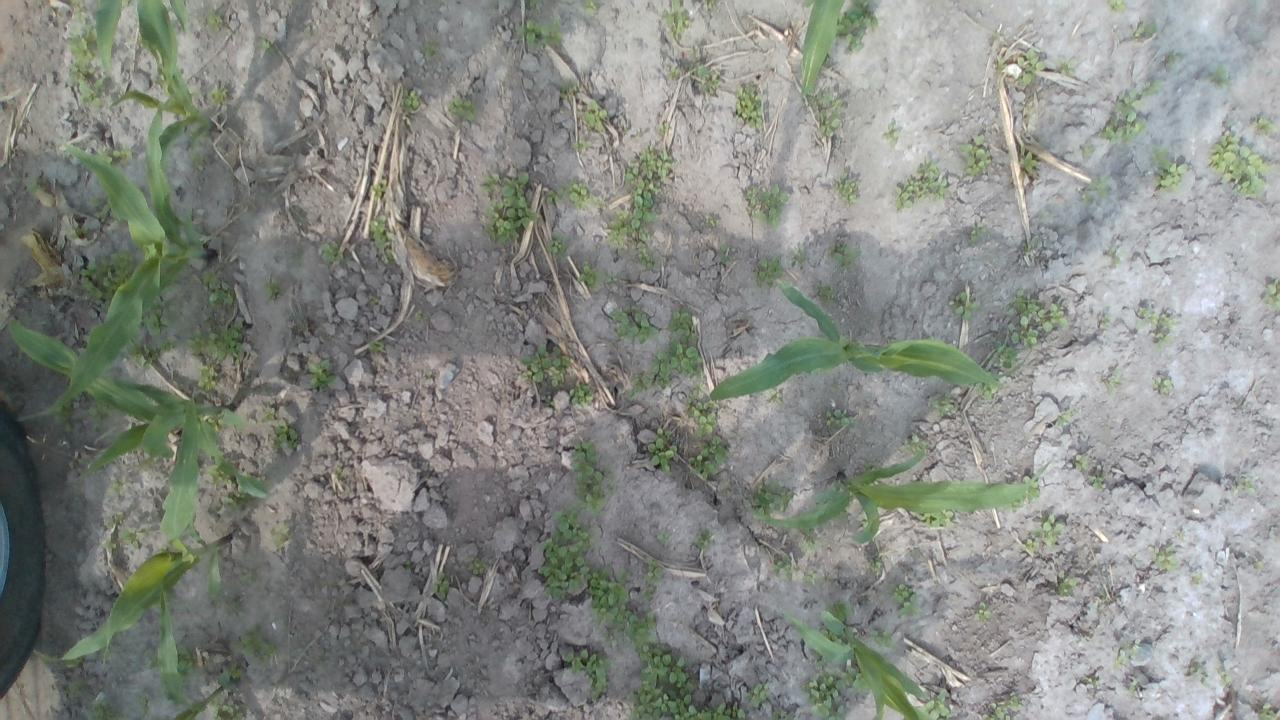Maize: (15, 93, 214, 437), (35, 392, 234, 668), (3, 316, 270, 502), (711, 282, 1002, 400), (762, 448, 1050, 544), (781, 608, 932, 720), (93, 0, 191, 97), (156, 585, 226, 720), (799, 0, 847, 98)
Weeds: (586, 561, 656, 645), (626, 641, 697, 720), (536, 505, 590, 602), (1208, 132, 1272, 202), (623, 143, 676, 226), (479, 171, 538, 244), (1002, 288, 1068, 346), (568, 438, 616, 517), (76, 249, 135, 310), (562, 644, 614, 702), (649, 336, 704, 389), (893, 158, 950, 207), (516, 342, 572, 390), (1098, 89, 1146, 145), (834, 0, 880, 55), (185, 320, 242, 362), (1148, 140, 1190, 194), (743, 182, 789, 231), (66, 60, 111, 107), (748, 480, 793, 525), (804, 673, 847, 720), (232, 623, 276, 668), (1134, 304, 1177, 350), (610, 304, 659, 344), (681, 52, 724, 96), (809, 86, 846, 136), (690, 435, 730, 481), (516, 14, 564, 49), (958, 134, 994, 180), (605, 209, 652, 244), (128, 337, 176, 370), (684, 396, 720, 439), (198, 268, 236, 307), (646, 428, 678, 474), (731, 84, 764, 128), (1016, 50, 1052, 90), (217, 476, 254, 514), (142, 296, 178, 334), (64, 26, 100, 62), (662, 0, 692, 41), (830, 166, 860, 207), (751, 254, 786, 289), (304, 357, 338, 393), (1029, 513, 1066, 545), (1012, 473, 1044, 510), (664, 306, 699, 339), (918, 687, 952, 720), (889, 582, 922, 616), (980, 693, 1020, 720), (563, 180, 600, 209), (51, 678, 89, 706), (84, 697, 128, 720), (52, 398, 80, 434), (86, 398, 114, 434), (828, 243, 864, 269), (446, 92, 476, 122), (994, 339, 1018, 376), (87, 193, 115, 224), (272, 422, 302, 450), (1082, 173, 1112, 201), (117, 524, 149, 550), (98, 144, 134, 167), (698, 703, 746, 720), (368, 214, 390, 251), (952, 292, 981, 320), (173, 644, 199, 674), (920, 509, 956, 530), (581, 100, 608, 128), (576, 262, 602, 290), (841, 666, 871, 690), (319, 242, 350, 265), (1261, 277, 1280, 313), (568, 383, 596, 407), (1154, 544, 1178, 572), (928, 391, 954, 416), (902, 432, 929, 456), (547, 233, 571, 260), (824, 407, 854, 428), (749, 680, 774, 705), (812, 280, 836, 306), (1056, 574, 1080, 600), (626, 375, 648, 402), (828, 598, 852, 622), (210, 702, 242, 720), (1018, 150, 1042, 174), (1208, 62, 1230, 88), (220, 664, 242, 689), (196, 364, 217, 390), (1132, 21, 1156, 43), (635, 243, 656, 268), (204, 412, 228, 433), (270, 524, 294, 545), (976, 380, 1000, 401), (428, 574, 453, 594), (1150, 376, 1176, 395), (870, 628, 892, 650), (820, 626, 844, 646), (770, 554, 791, 576), (104, 510, 125, 532), (882, 121, 902, 144), (400, 87, 421, 108), (556, 80, 578, 100), (1116, 646, 1136, 668), (466, 556, 490, 574), (693, 528, 713, 548), (209, 85, 230, 104), (206, 464, 227, 483), (1189, 662, 1207, 684), (69, 227, 93, 243), (260, 38, 280, 57), (106, 478, 125, 498), (1104, 366, 1122, 387), (1256, 703, 1278, 720), (770, 706, 796, 720), (1254, 118, 1278, 133), (263, 280, 281, 300), (1107, 246, 1122, 270), (1020, 538, 1040, 556), (138, 693, 154, 715), (238, 572, 260, 588), (1072, 453, 1090, 472), (1054, 408, 1072, 427), (580, 0, 601, 16), (188, 144, 203, 166), (765, 388, 784, 405), (793, 248, 813, 264), (869, 552, 882, 576), (24, 176, 41, 194), (204, 12, 223, 28), (1143, 81, 1163, 96), (1087, 473, 1104, 490), (370, 179, 388, 195), (366, 338, 386, 352), (974, 604, 991, 620), (102, 540, 119, 556), (970, 223, 984, 242), (1106, 0, 1128, 12), (72, 0, 88, 16), (545, 188, 561, 204), (801, 538, 818, 553), (1166, 52, 1184, 66), (1218, 670, 1232, 688), (147, 652, 162, 668), (1080, 143, 1096, 158), (804, 569, 818, 586), (814, 652, 828, 668), (996, 55, 1009, 72), (719, 244, 730, 264), (1100, 312, 1112, 329), (1059, 61, 1073, 75), (1240, 480, 1256, 492), (422, 40, 433, 57), (542, 394, 555, 408), (704, 216, 718, 229), (526, 0, 544, 10), (1022, 239, 1036, 251), (666, 66, 680, 78), (1083, 675, 1099, 685), (702, 0, 716, 11), (862, 462, 877, 472), (656, 532, 668, 544), (572, 140, 586, 150), (1128, 681, 1138, 690), (1191, 576, 1200, 584)
